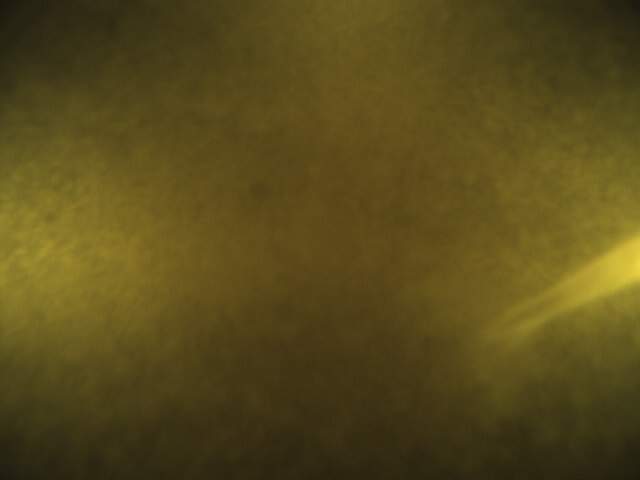shrimp: (424, 227, 640, 407)
